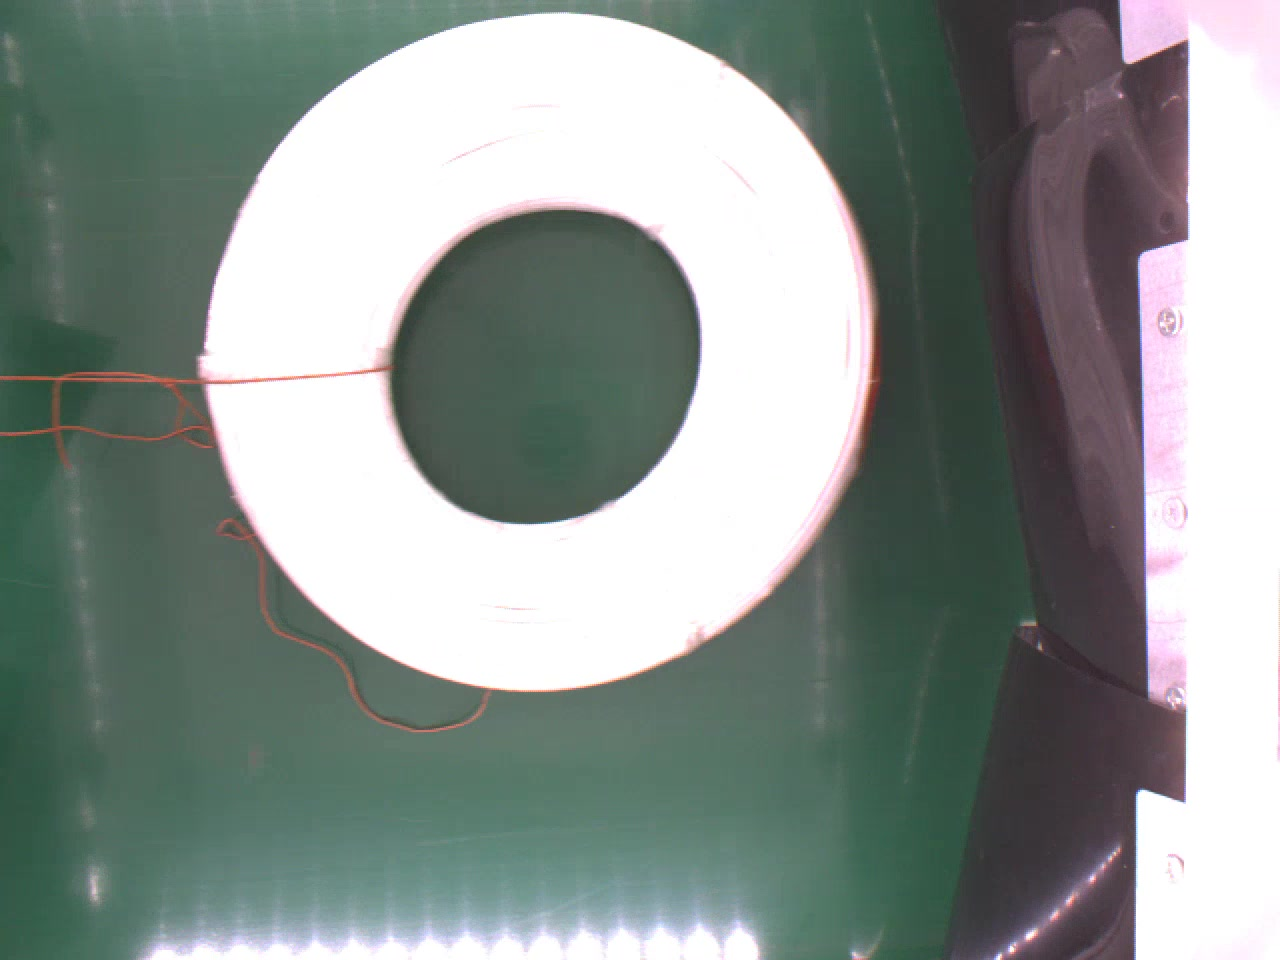white: (191, 7, 880, 685)
